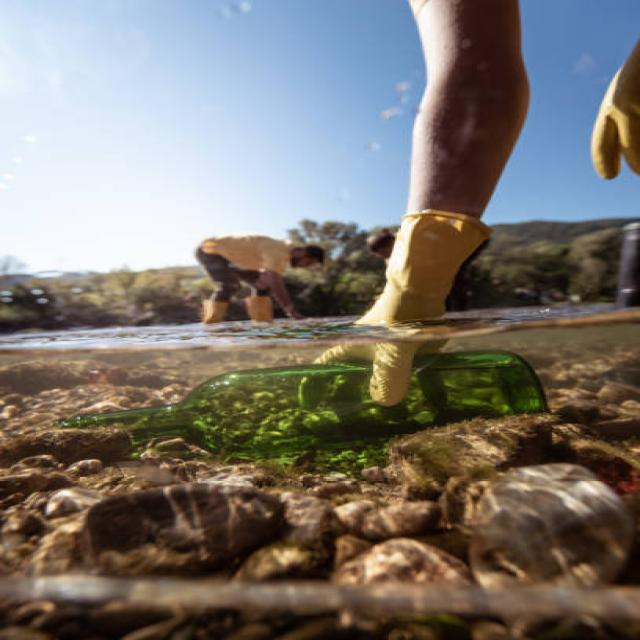glass: (36, 347, 571, 453)
